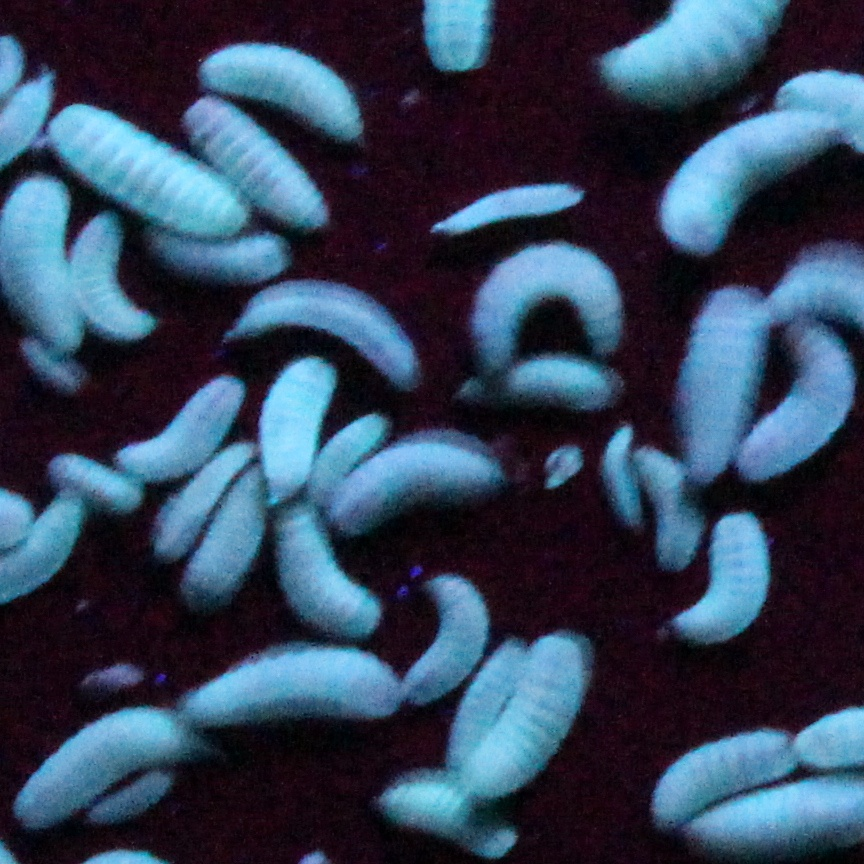larve: (48, 112, 252, 231), (653, 119, 834, 245), (182, 638, 411, 723), (462, 236, 615, 358), (181, 105, 331, 228), (19, 702, 176, 817), (476, 634, 589, 789), (269, 491, 372, 645), (750, 327, 858, 467), (257, 288, 419, 381), (648, 734, 801, 817), (195, 58, 368, 131), (671, 503, 763, 640), (126, 366, 238, 476), (155, 442, 254, 555), (325, 455, 482, 524), (396, 766, 510, 857), (128, 224, 289, 285), (453, 632, 520, 773), (199, 465, 262, 614), (264, 337, 319, 505), (416, 567, 481, 704), (78, 211, 146, 336), (639, 444, 705, 570), (430, 182, 581, 233), (699, 283, 737, 467), (48, 447, 141, 517), (508, 350, 614, 408), (311, 409, 381, 485), (603, 426, 643, 522)
